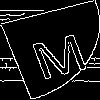M: (24, 24, 92, 81)
